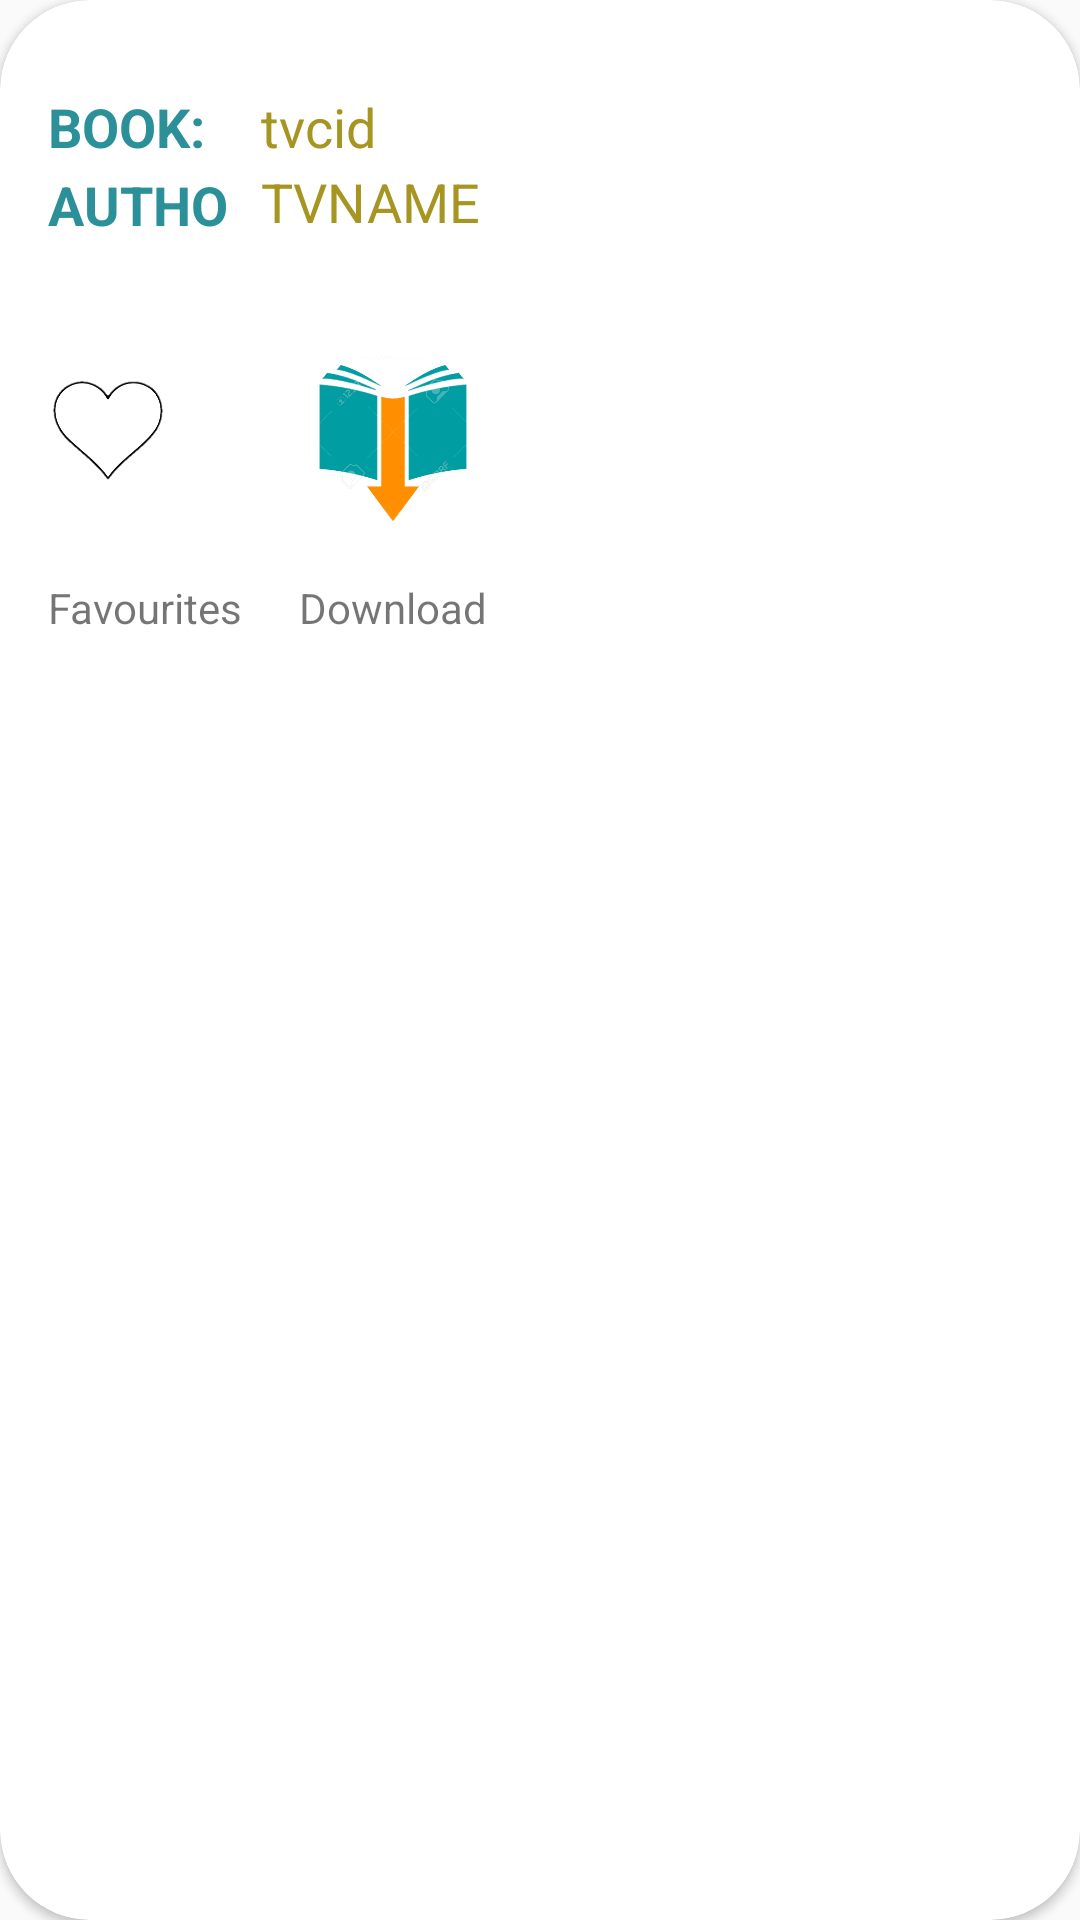

Locate icon controls on the screen. Image size 1080 × 1920, boxes as (x1, y1, x2, y2).
heart: (53, 381, 163, 480)
